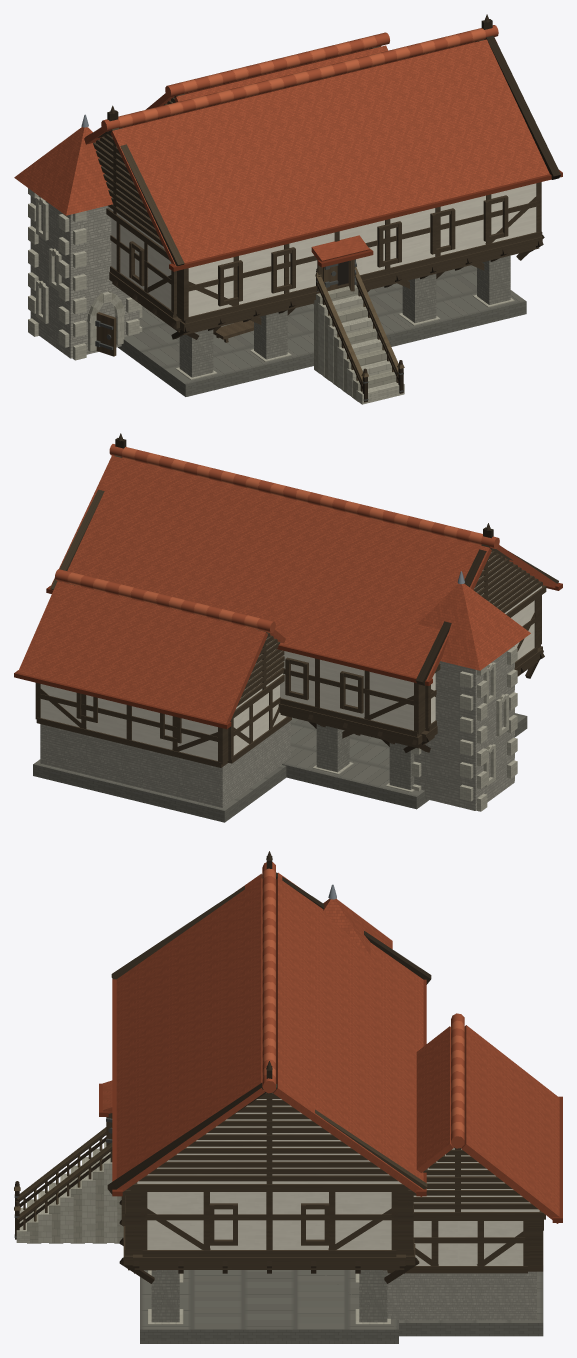
Rendered from rat-3-built.glb.
3 renders of one model, top to bottom at view 1: azimuth 30°, elevation 25°; view 2: azimuth 150°, elevation 25°; view 3: azimuth 270°, elevation 25°, orthographic. The views are drawn at different scales.
Size of the model in its own units: 32.25 by 18.31 by 31.18.
Materials: 48 (41 with a texture image).
